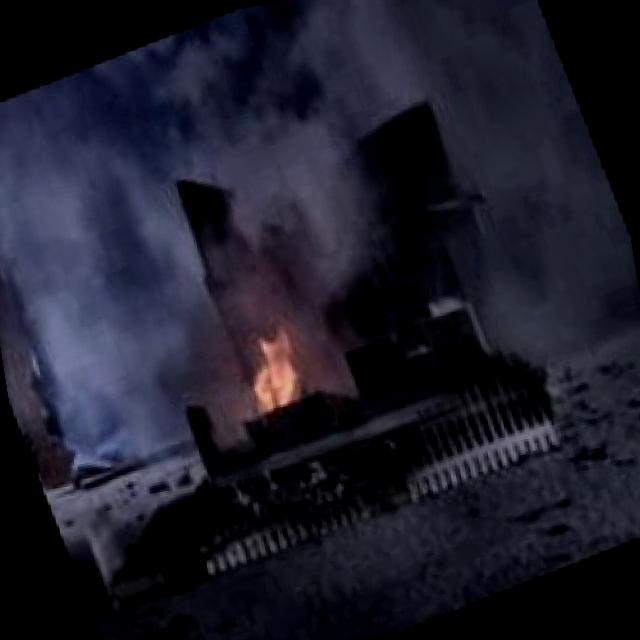fire: (208, 292, 362, 458)
smoke: (0, 0, 603, 401)
